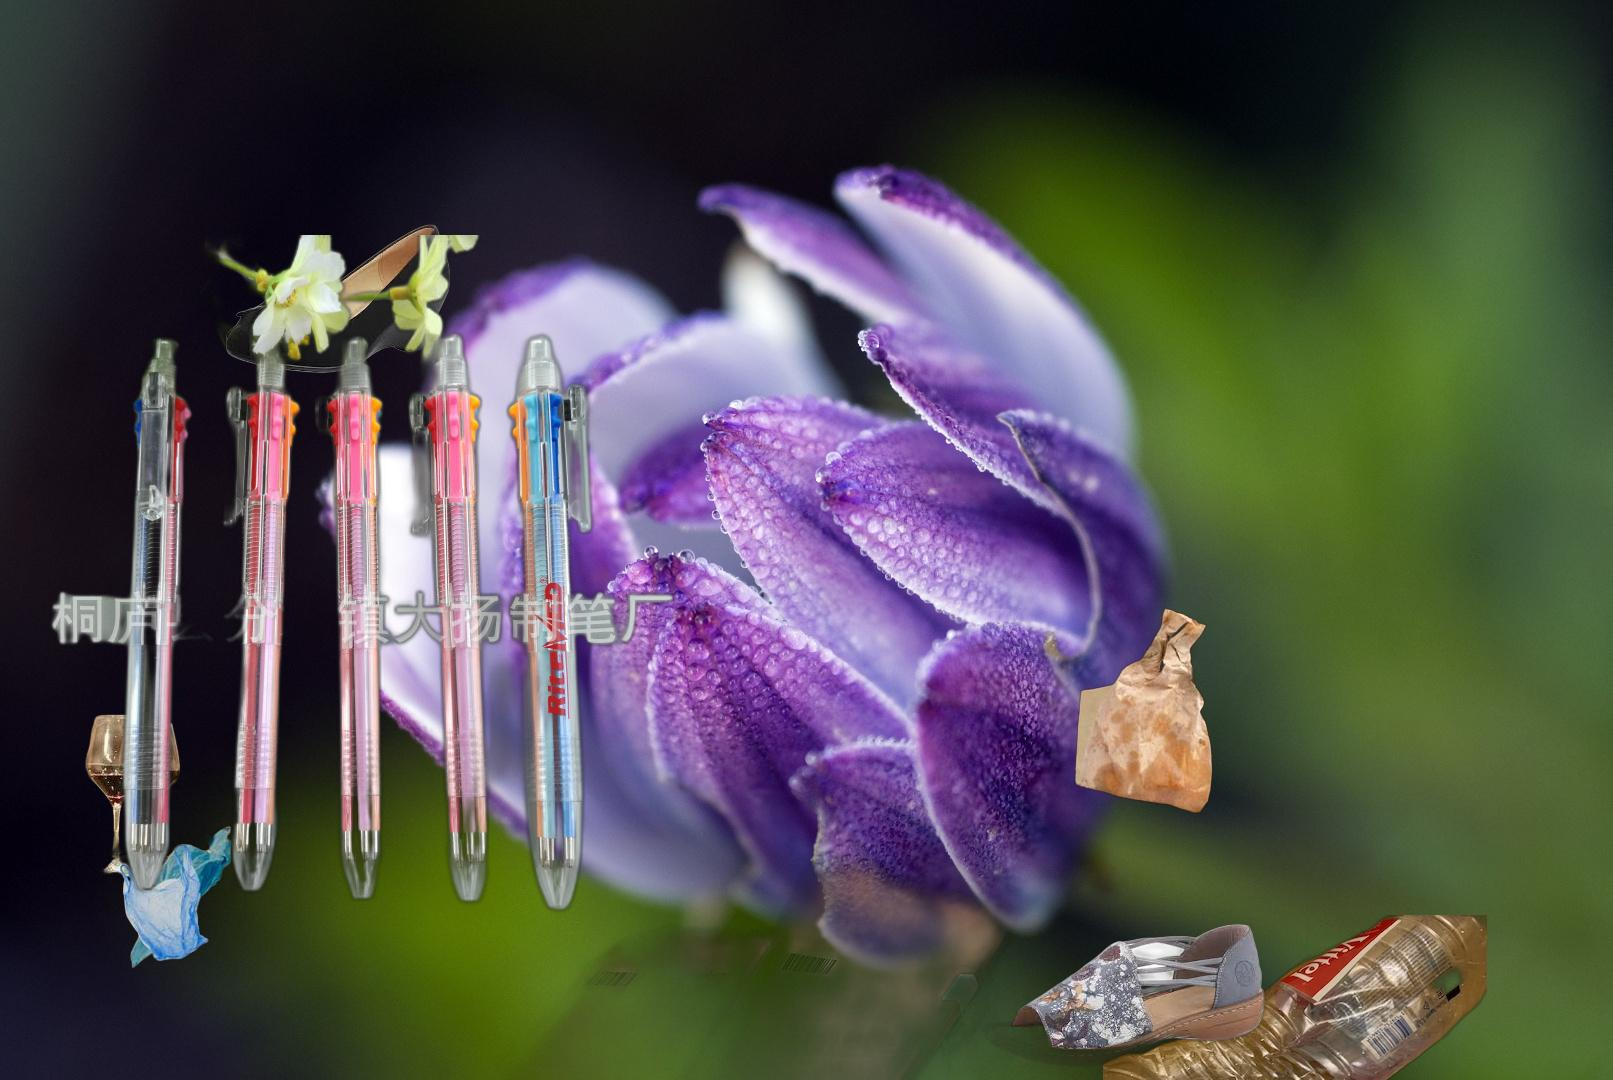paper-bag: (1073, 604, 1215, 817)
penholder: (45, 235, 681, 917)
plastic-bag: (82, 714, 251, 972)
plastic-bottles: (1103, 915, 1486, 1080)
shoes: (983, 921, 1269, 1069), (225, 222, 451, 376)
trashbox-cardboard: (376, 485, 1171, 1080)
